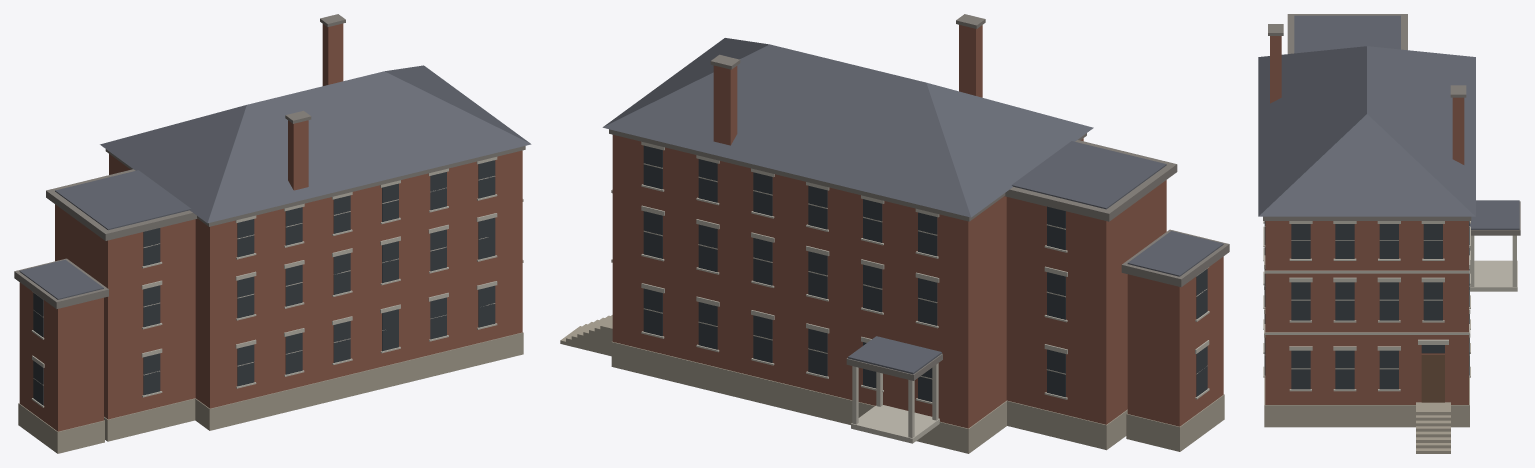
File: kellogg_house_1709_prairie__draft_1904.glb
The picture shows the model from 3 angles, left to right: view 1: azimuth 30°, elevation 25°; view 2: azimuth 150°, elevation 25°; view 3: azimuth 270°, elevation 25°; orthographic projection. The views are drawn at different scales.
Parts seen in each view (by area): view 1: kellogg_house_1709_prairie__draft_1904; view 2: kellogg_house_1709_prairie__draft_1904; view 3: kellogg_house_1709_prairie__draft_1904.
Part boxes in pixels (x1,y1,x2,y2): kellogg_house_1709_prairie__draft_1904: (14, 14, 531, 453); kellogg_house_1709_prairie__draft_1904: (560, 14, 1229, 453); kellogg_house_1709_prairie__draft_1904: (1258, 14, 1520, 453).
Bounding box in the file's own units: 30.5 × 16.51 × 13.5.
